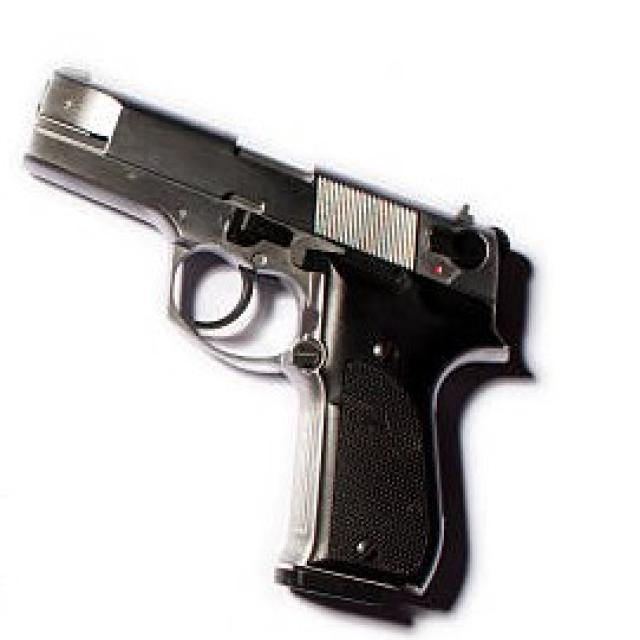pistol: (10, 66, 553, 640)
